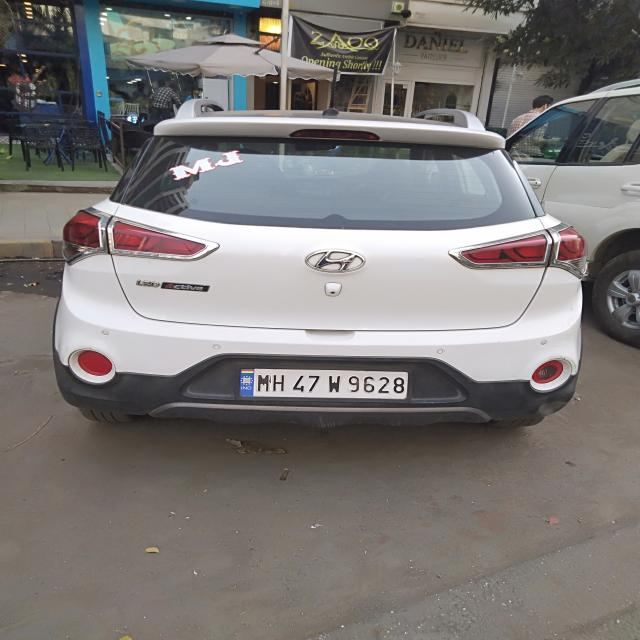Number-Plate: (239, 366, 409, 400)
